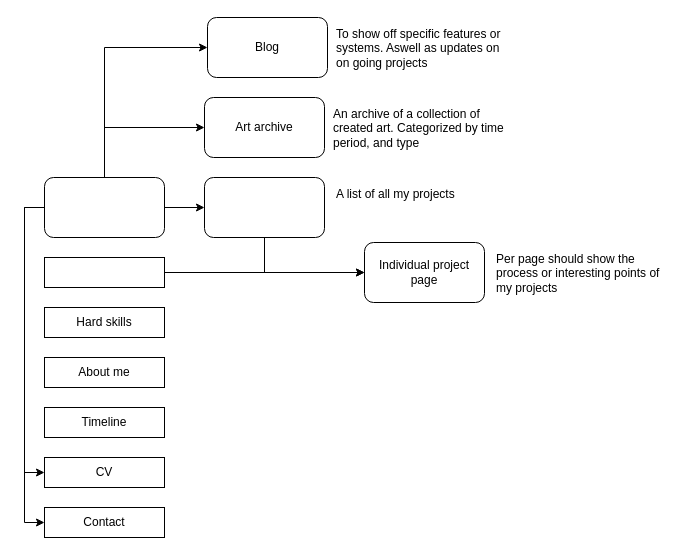
The diagram is 692 pixels wide and 555 high, and some of its shapes have lost their labels. Here are the shapes that lost their labels. From the top down, the box of each, then its label:
(44, 176, 164, 238): Main page
(204, 176, 324, 238): Project archive
(44, 256, 164, 288): Best projects
